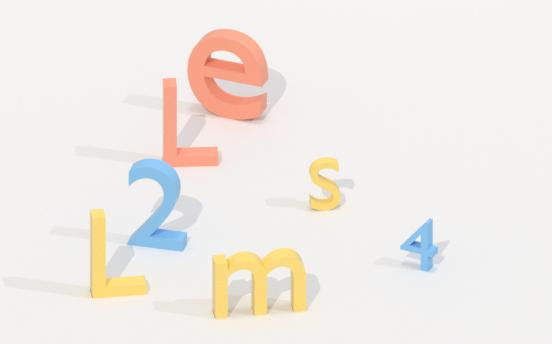2: (123, 156, 194, 262)
4: (400, 210, 444, 274)
e: (183, 24, 278, 126)
l: (76, 205, 153, 300), (155, 72, 224, 175)
m: (208, 242, 311, 332)
s: (306, 148, 347, 220)
